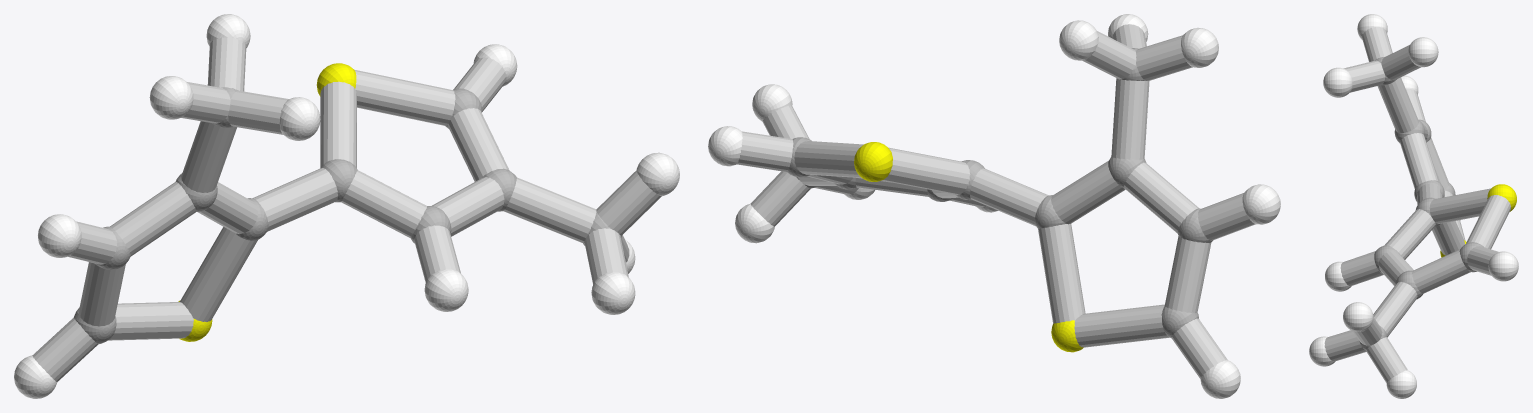
The model's file is Methylthiophene_Phi_15_Theta_280_Methylthiophene.glb.
3 views of the same model, side by side, from view 1: azimuth 30°, elevation 25°; view 2: azimuth 150°, elevation 25°; view 3: azimuth 270°, elevation 25° (orthographic). The views are drawn at different scales.
Visible parts, largest first — view 1: grp7965, grp3621, grp1, grp7241; view 2: grp7965, grp3621, grp1, grp7241; view 3: grp7965, grp3621, grp1, grp7241.
Boxes of the visible parts, x1=… form: grp7965: x1=32, y1=37, x2=661, y2=381; grp3621: x1=14, y1=14, x2=679, y2=398; grp1: x1=74, y1=87, x2=621, y2=343; grp7241: x1=178, y1=63, x2=356, y2=341; grp7965: x1=737, y1=24, x2=1255, y2=378; grp3621: x1=708, y1=14, x2=1280, y2=398; grp1: x1=787, y1=48, x2=1212, y2=338; grp7241: x1=854, y1=142, x2=1083, y2=352; grp7965: x1=1324, y1=27, x2=1510, y2=382; grp3621: x1=1309, y1=14, x2=1518, y2=398; grp1: x1=1359, y1=57, x2=1483, y2=350; grp7241: x1=1440, y1=184, x2=1516, y2=257.
Size of the model in its own units: 9.48 by 5.29 by 4.13.
